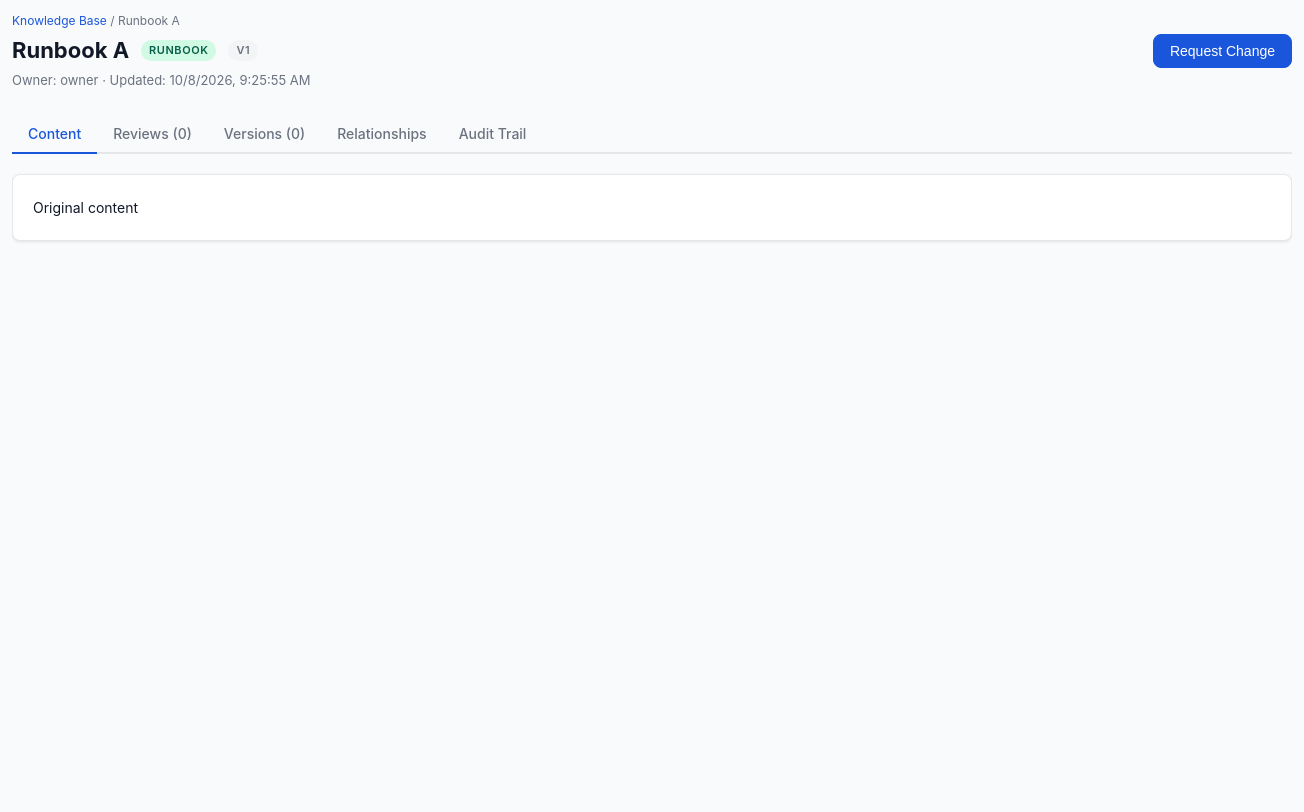
Test: DocumentDetailPage Request Change button › shows the change request form when clicked from the Content tab
This screenshot has width=1304, height=812.
Expected: the field with placeholder "What change are you requesting?" is not shown
Click the button "Request Change": (1222, 51) [1153,34,1292,68]
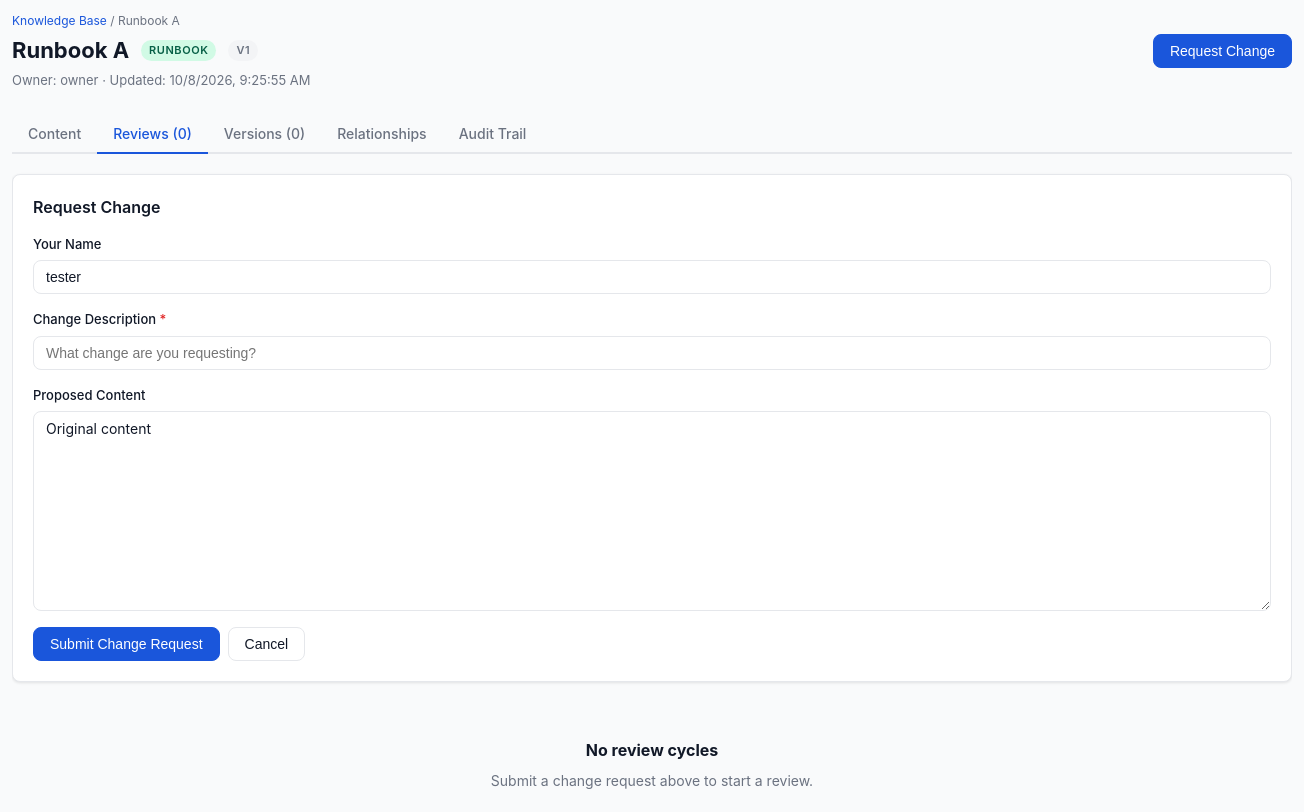
Expected: the field with placeholder "What change are you requesting?" is shown, [33,336,1271,370]
Expected: the button "Submit Change Request" is shown, [33,627,220,661]
